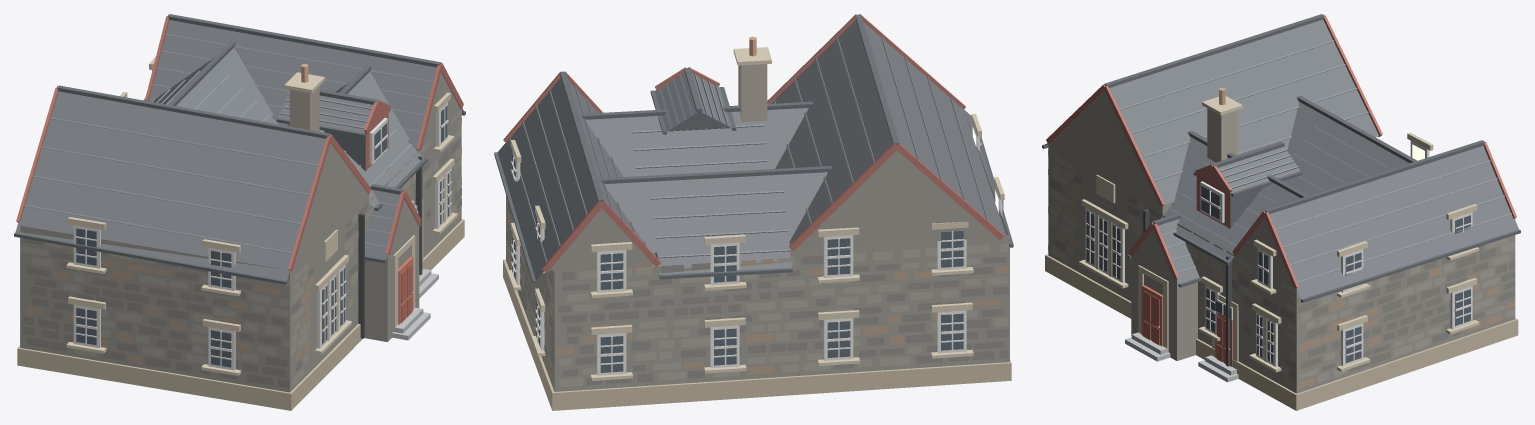
The picture shows the model from 3 angles, left to right: view 1: azimuth 30°, elevation 25°; view 2: azimuth 150°, elevation 25°; view 3: azimuth 270°, elevation 25°; orthographic projection. The views are drawn at different scales.
Parts seen in each view (by area): view 1: slate, rubble, rubble_dk, slate_dk, ss_dk, rubble_lt, ss, slate_lt, frame, timber_red, rubble_rust, pipe (+8 smaller); view 2: slate, rubble, rubble_dk, rubble_lt, ss_dk, slate_lt, slate_dk, frame, ss, timber_red, rubble_rust, chim_stone (+8 smaller); view 3: slate, rubble, slate_dk, ss_dk, rubble_dk, ss, rubble_lt, slate_lt, frame, timber_red, rubble_rust, chim_stone (+5 smaller).
Part boxes in pixels (x1,y1,x2,y2): slate: [15, 20, 464, 280]; rubble: [20, 72, 461, 392]; rubble_dk: [22, 138, 461, 388]; slate_dk: [14, 14, 465, 284]; ss_dk: [17, 219, 464, 410]; rubble_lt: [20, 97, 461, 385]; ss: [66, 56, 457, 375]; slate_lt: [24, 33, 433, 253]; frame: [73, 70, 451, 370]; timber_red: [16, 14, 463, 271]; rubble_rust: [27, 156, 460, 363]; pipe: [358, 156, 422, 338]; slate: [497, 20, 1009, 280]; rubble: [506, 118, 1009, 391]; rubble_dk: [506, 201, 1008, 385]; rubble_lt: [506, 241, 1008, 387]; ss_dk: [503, 259, 1011, 410]; slate_lt: [508, 36, 988, 263]; slate_dk: [494, 14, 1013, 283]; frame: [511, 123, 1003, 375]; ss: [507, 47, 1004, 380]; timber_red: [503, 14, 1004, 272]; rubble_rust: [506, 209, 1008, 378]; chim_stone: [738, 64, 767, 122]; slate: [1044, 19, 1518, 299]; rubble: [1048, 92, 1515, 393]; slate_dk: [1042, 14, 1520, 302]; ss_dk: [1045, 254, 1518, 410]; rubble_dk: [1048, 175, 1515, 379]; ss: [1079, 96, 1479, 372]; rubble_lt: [1048, 150, 1515, 382]; slate_lt: [1119, 40, 1511, 282]; frame: [1085, 141, 1472, 366]; timber_red: [1046, 14, 1516, 289]; rubble_rust: [1056, 182, 1515, 389]; chim_stone: [1207, 108, 1237, 162].
Size of the model in its own units: 17.51 by 8.77 by 16.46.
